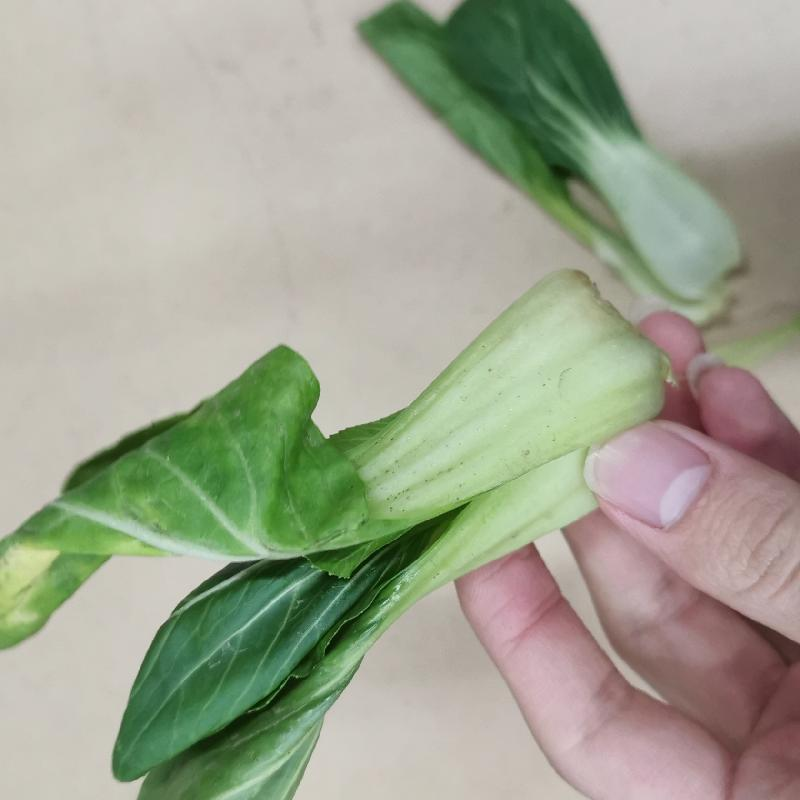green vegatable: (4, 270, 669, 800)
